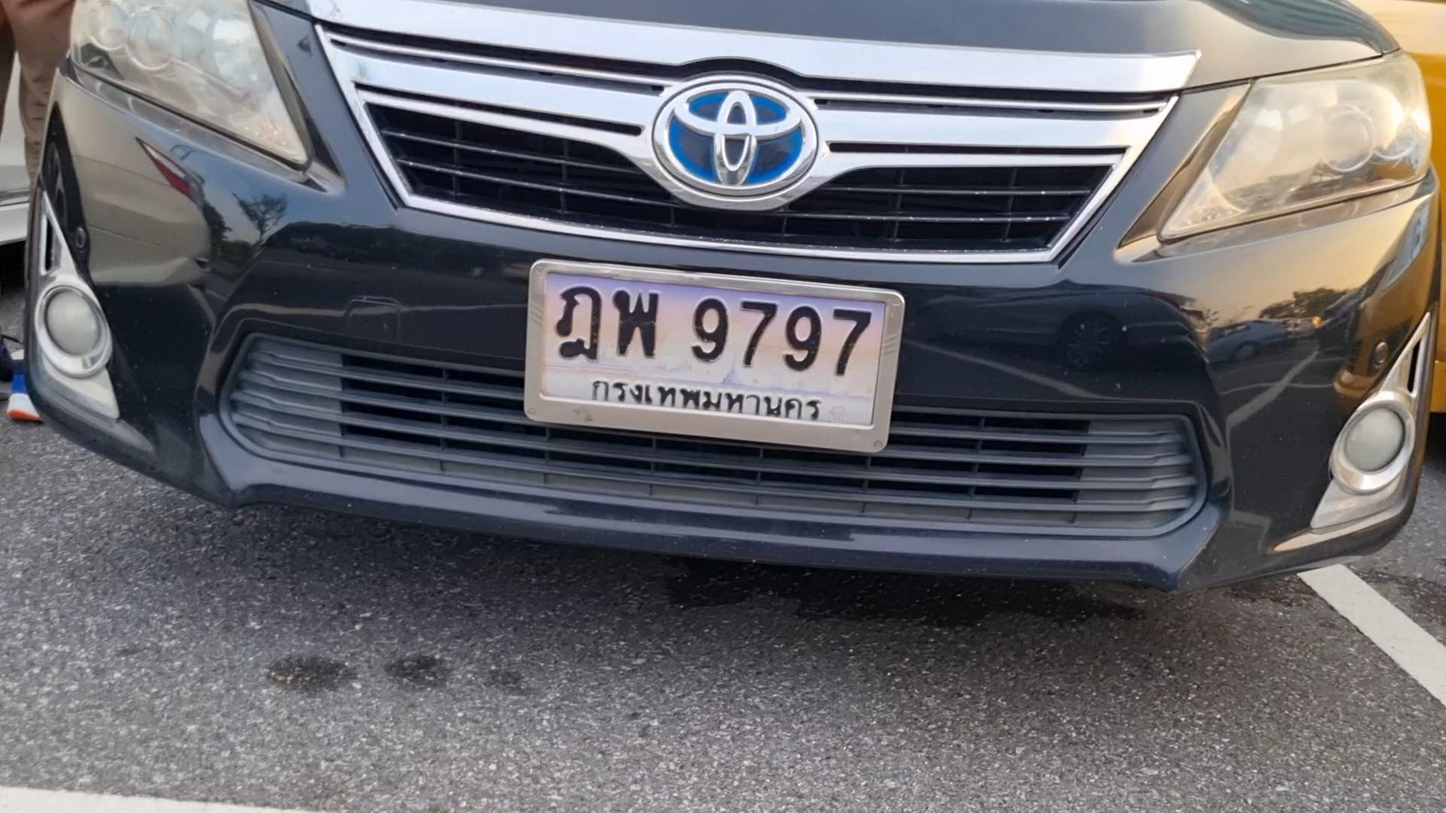license-plate: (526, 256, 906, 456)
